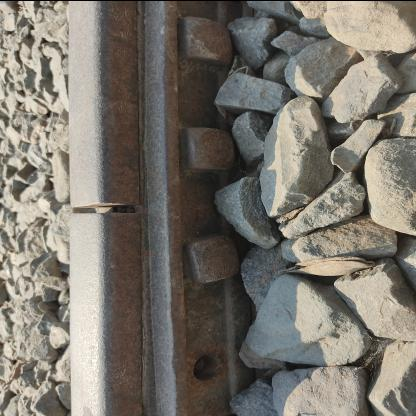Defective 3: (126, 1, 259, 415)
